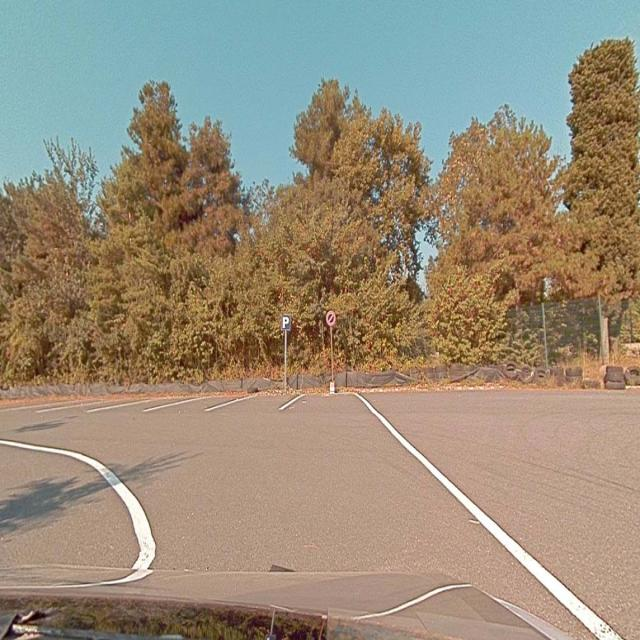park: (282, 314, 290, 330)
parkyasak: (326, 310, 336, 326)
